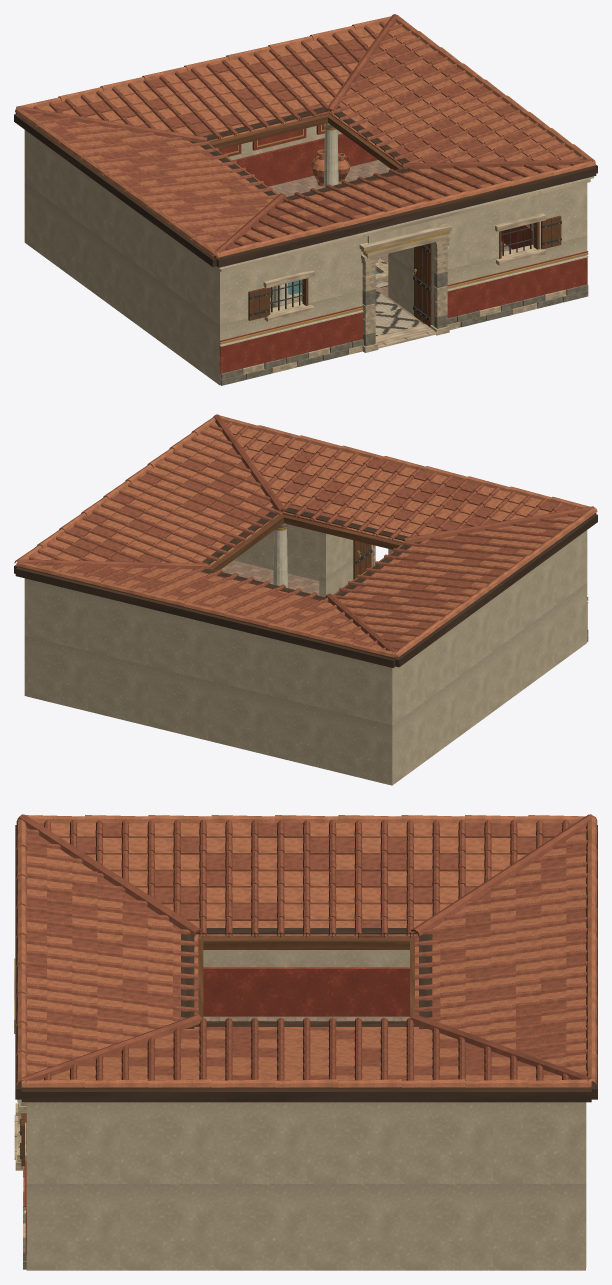
File: atrium_house.glb
The picture shows the model from 3 angles, top to bottom: view 1: azimuth 30°, elevation 25°; view 2: azimuth 150°, elevation 25°; view 3: azimuth 270°, elevation 25°; orthographic projection. The views are drawn at different scales.
Parts seen in each view (by area): view 1: Domus_tetrastyle; view 2: Domus_tetrastyle; view 3: Domus_tetrastyle.
Boxes of the visible parts, box(x1,y1,x2,y2) form: Domus_tetrastyle: box(14, 14, 597, 385); Domus_tetrastyle: box(14, 414, 597, 785); Domus_tetrastyle: box(14, 814, 597, 1270).
Size of the model in its own units: 11.53 by 3.9 by 10.55.
1 material, 1 textured.
